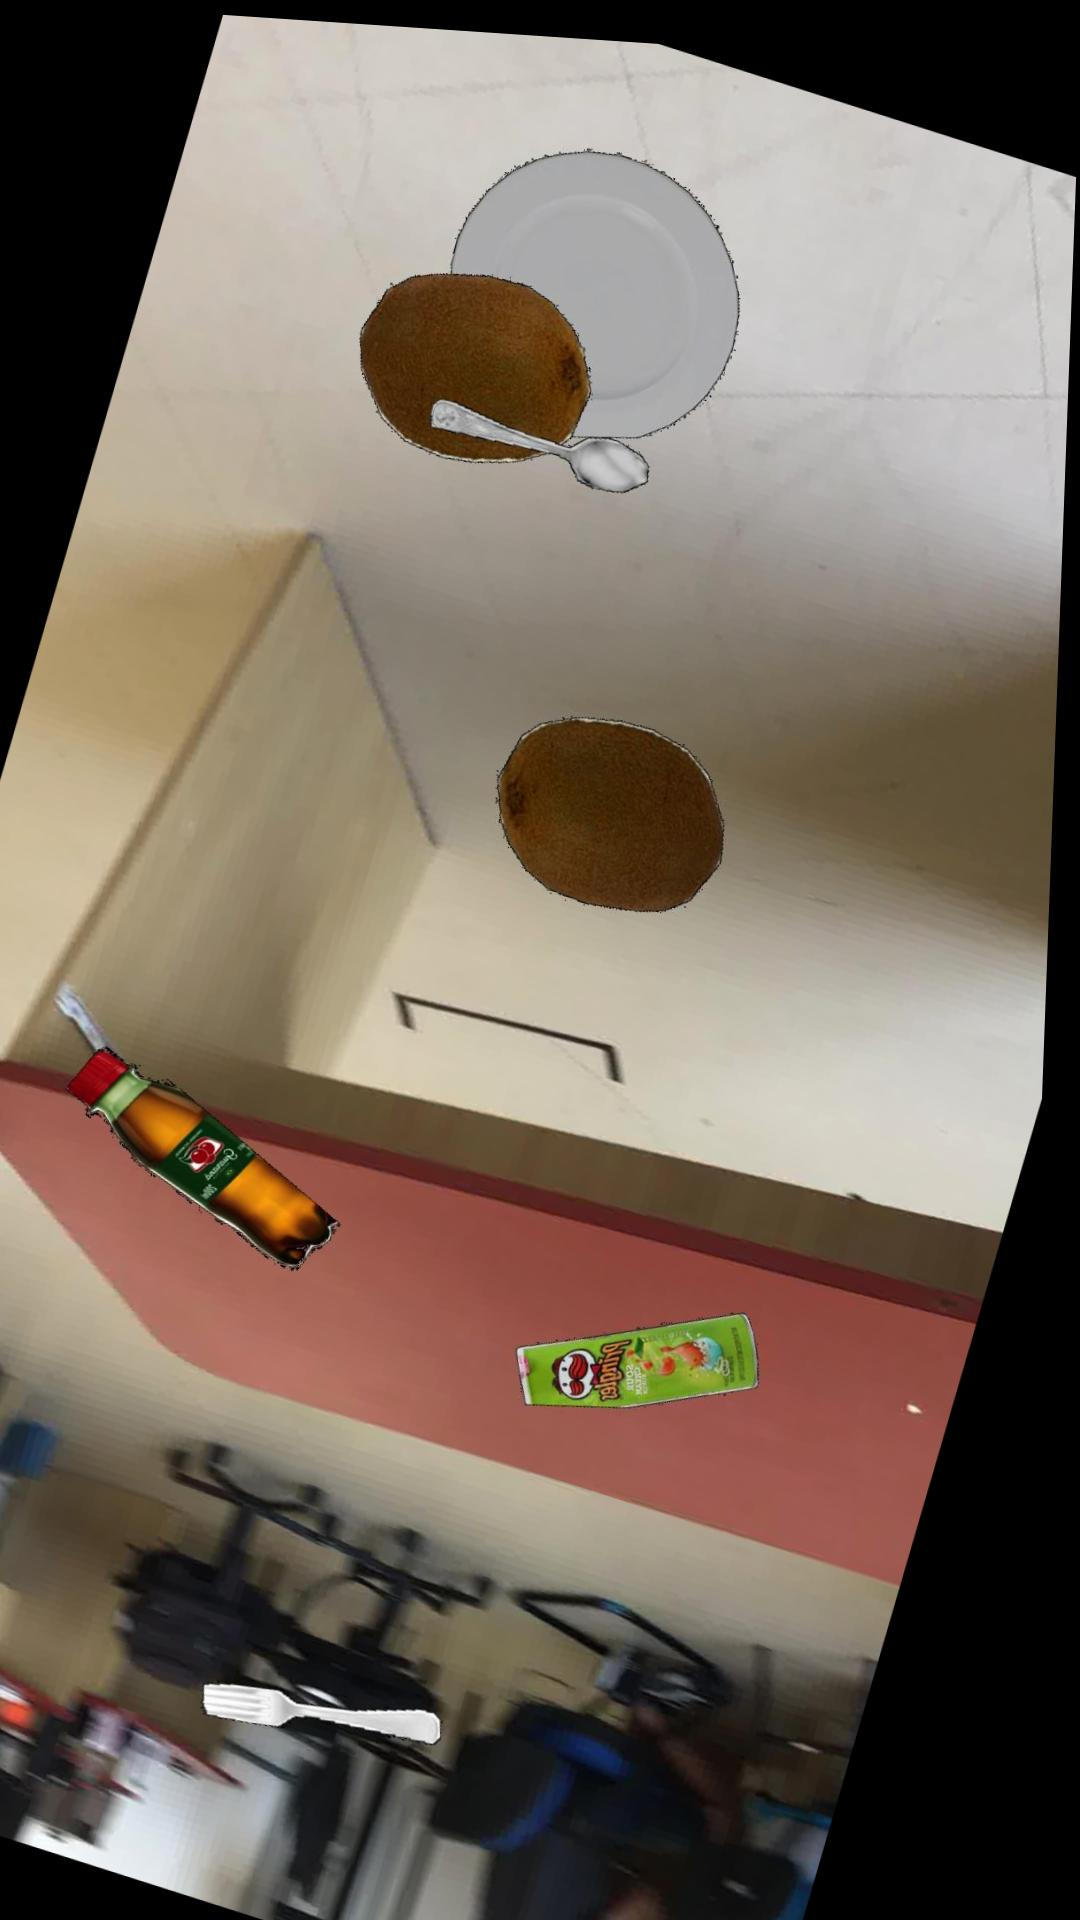fork: (212, 1679, 454, 1739)
guarana: (72, 1045, 347, 1264)
kiwi: (501, 709, 728, 904), (360, 268, 592, 457)
plate: (450, 143, 740, 430)
pringles: (524, 1303, 767, 1400)
spoon: (431, 393, 651, 485)
